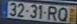1: (37, 4, 42, 19)
2: (16, 2, 25, 18)
3: (8, 2, 17, 16), (29, 3, 37, 18)
Q: (57, 6, 68, 22)
R: (47, 5, 57, 21)
